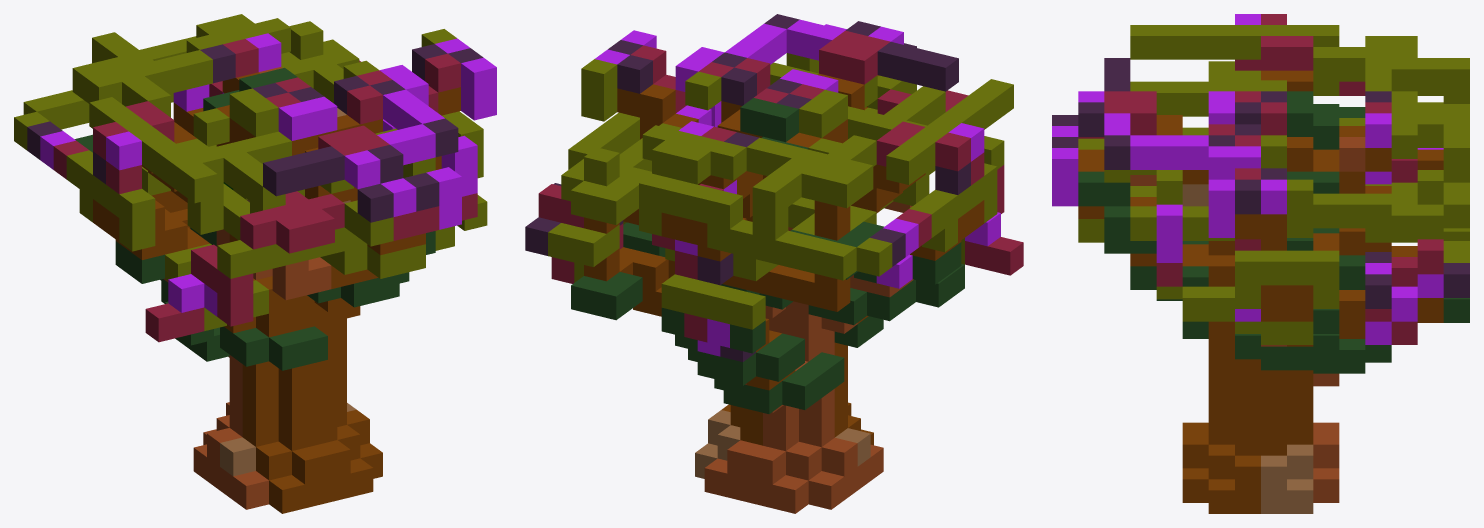
File: Karen_Daniela_Bustos_Valero_fase_3.obj
3 views of the same model, side by side, from view 1: azimuth 30°, elevation 25°; view 2: azimuth 150°, elevation 25°; view 3: azimuth 270°, elevation 25° (orthographic).
Parts seen in each view (by area): view 1: Karen_Daniela_Bustos_Valero_fase_3; view 2: Karen_Daniela_Bustos_Valero_fase_3; view 3: Karen_Daniela_Bustos_Valero_fase_3.
Part boxes in pixels (<box>): Karen_Daniela_Bustos_Valero_fase_3: <box>14,14,496,513</box>; Karen_Daniela_Bustos_Valero_fase_3: <box>525,14,1023,513</box>; Karen_Daniela_Bustos_Valero_fase_3: <box>1052,14,1469,513</box>.
Size of the model in its own units: 16 by 16 by 16.
1 material, 1 textured.
